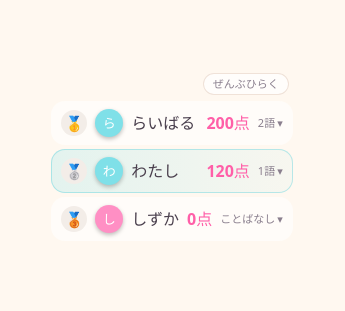
Test case: RoundPlayerList › 何人ぶんでも同時に開いたままにできる
Click the text "らいばる": (165,123) [131,111,198,135]
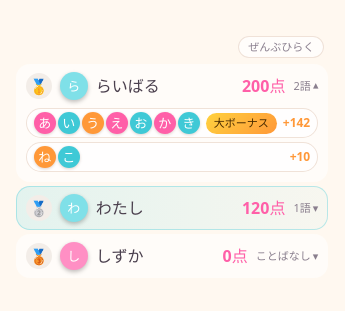
Click the text "わたし": (120,208) [96,197,144,219]
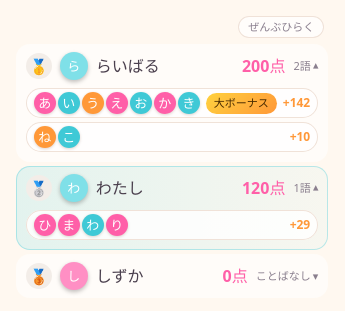
expect the element named "あいうえおかき" is shown: met, box [34,92,200,114]
expect the element named "ひまわり" is shown: met, box [34,214,128,236]
もう一度タップしたぶんだけが閉じる
Click the text "らいばる": (128,66) [96,55,160,77]
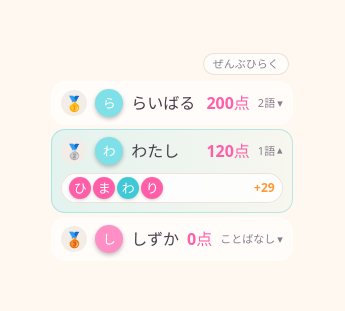
expect the element named "ひまわり" is shown: met, box [69,177,163,199]
expect the field labelled "あいうえおかき" is gone: met
